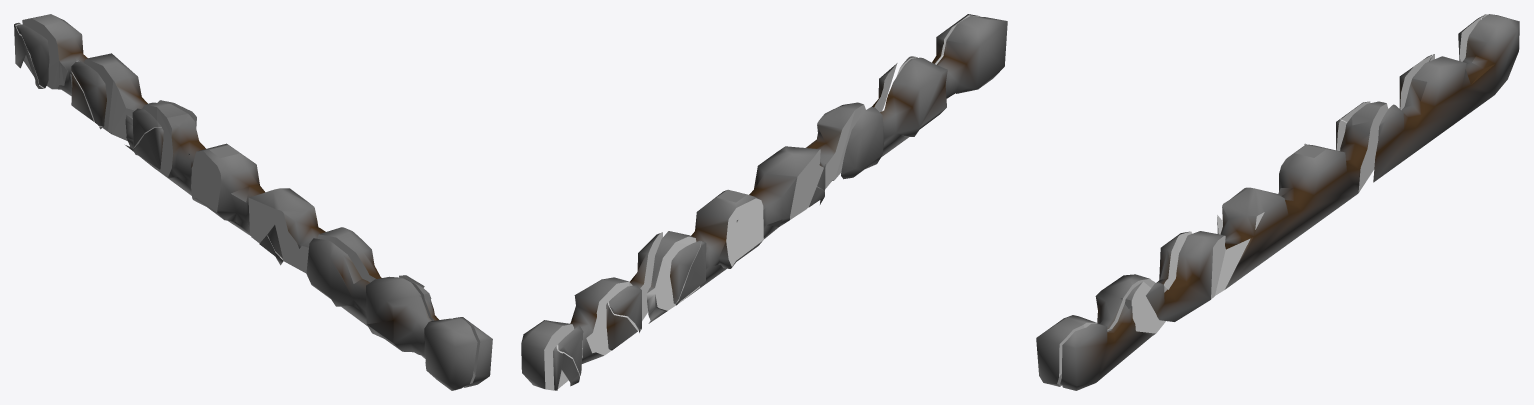
File: Medieval Walls(2).glb
3 views of the same model, side by side, from view 1: azimuth 30°, elevation 25°; view 2: azimuth 150°, elevation 25°; view 3: azimuth 330°, elevation 25° (orthographic).
Parts seen in each view (by area): view 1: id0.008, id0.002, id0.001, id0.009, id0.010, id0.007, id0.004, id0.011, id0, id0.003; view 2: id0.008, id0.002, id0.001, id0.011, id0.010, id0.003, id0.004, id0, id0.007, id0.009; view 3: id0.008, id0.001, id0.009, id0.002, id0.010.
Part boxes in pixels (x1,y1,x2,y2): id0.008: (125,102,424,287); id0.002: (306,238,477,390); id0.001: (22,14,196,141); id0.009: (403,277,492,387); id0.010: (71,61,106,126); id0.007: (16,24,49,88); id0.004: (133,127,163,169); id0.011: (132,108,161,149); id0: (14,22,44,88); id0.003: (71,60,102,129); id0.008: (646,63,897,323); id0.002: (841,15,1007,179); id0.001: (521,232,662,390); id0.011: (670,240,700,303); id0.010: (609,285,641,330); id0.003: (606,302,640,350); id0.004: (675,241,706,305); id0: (553,345,579,390); id0.007: (558,325,583,376); id0.009: (884,14,981,110); id0.008: (1146,101,1388,321); id0.001: (1373,14,1519,182); id0.009: (1060,281,1165,390); id0.002: (1036,231,1192,386); id0.010: (1399,55,1432,110).
Bounding box in the file's own units: 9.73 × 12.46 × 164.
